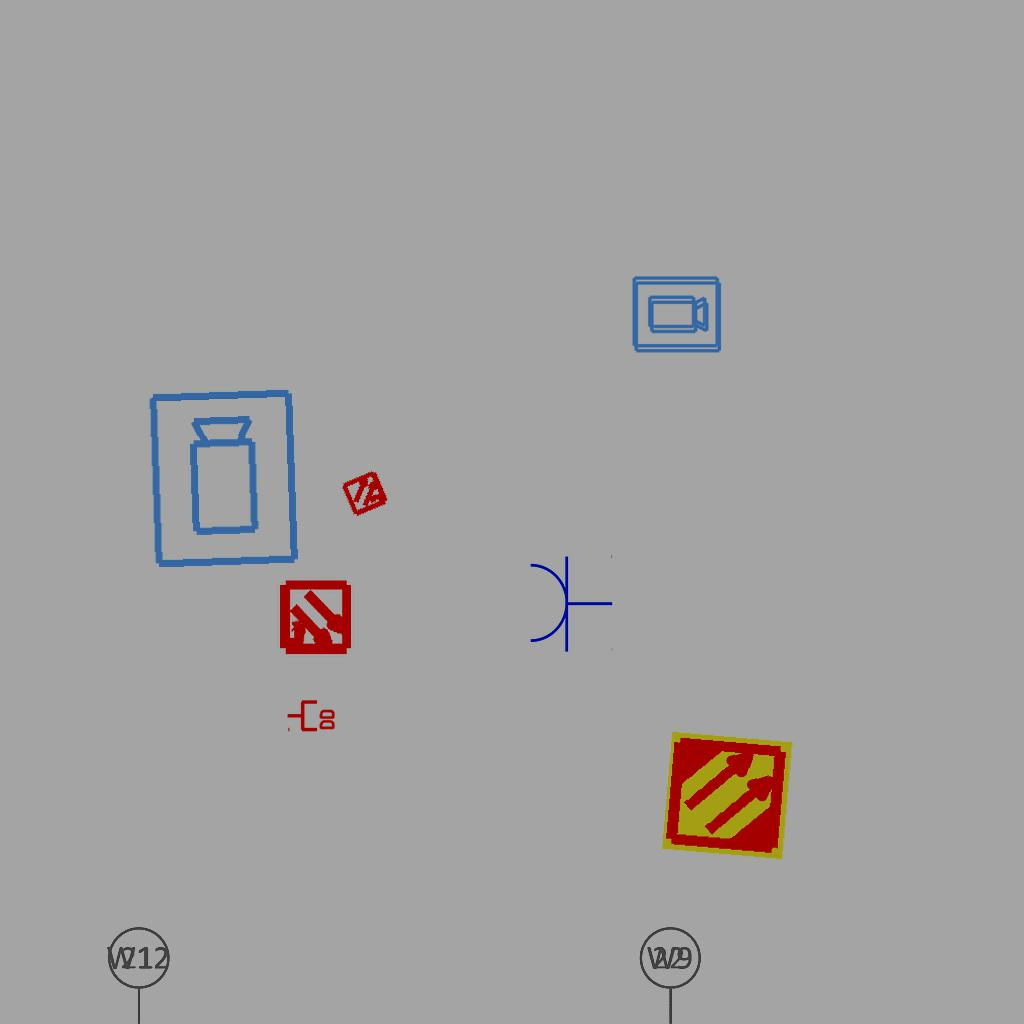ASR_Ansaugrauchmelder: (659, 727, 796, 864)
Datenanschluss_zweifach: (286, 698, 337, 732)
KFO_Kamera_mit_Festobjektiv: (144, 385, 306, 573), (630, 274, 721, 351), (632, 279, 723, 356)
OT_Multisensormelder_(Kombination_RMO_WMD): (259, 563, 372, 676), (329, 456, 403, 530)
Schukosteckdose_einfach: (526, 553, 613, 653)
